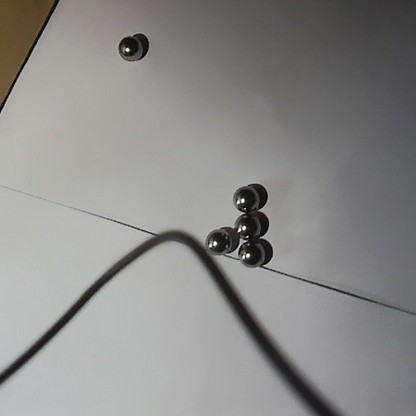ironball: (229, 209, 269, 239), (237, 234, 269, 271), (204, 224, 234, 254), (232, 183, 263, 211), (114, 34, 143, 61)
